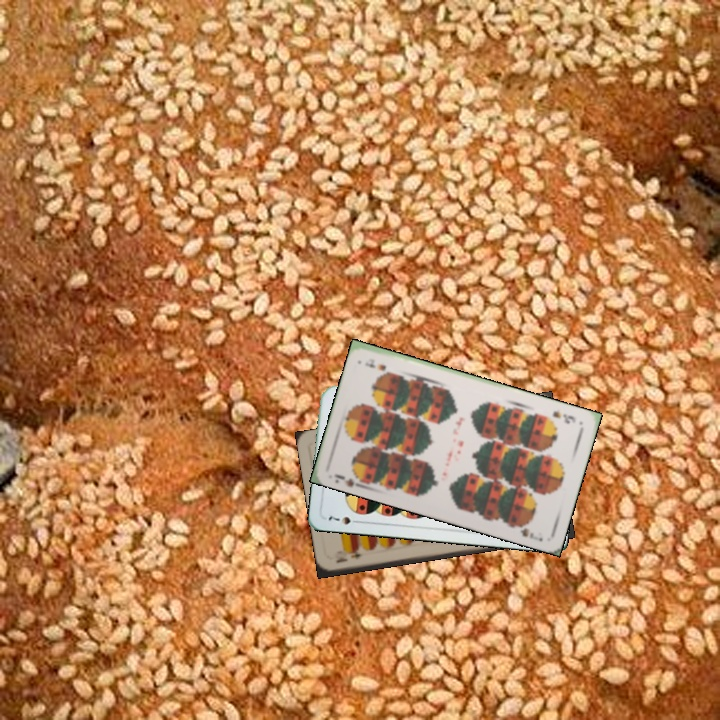E10: (332, 548, 366, 566)
S7: (324, 512, 363, 527)
S9: (330, 469, 368, 491), (548, 407, 578, 426)
